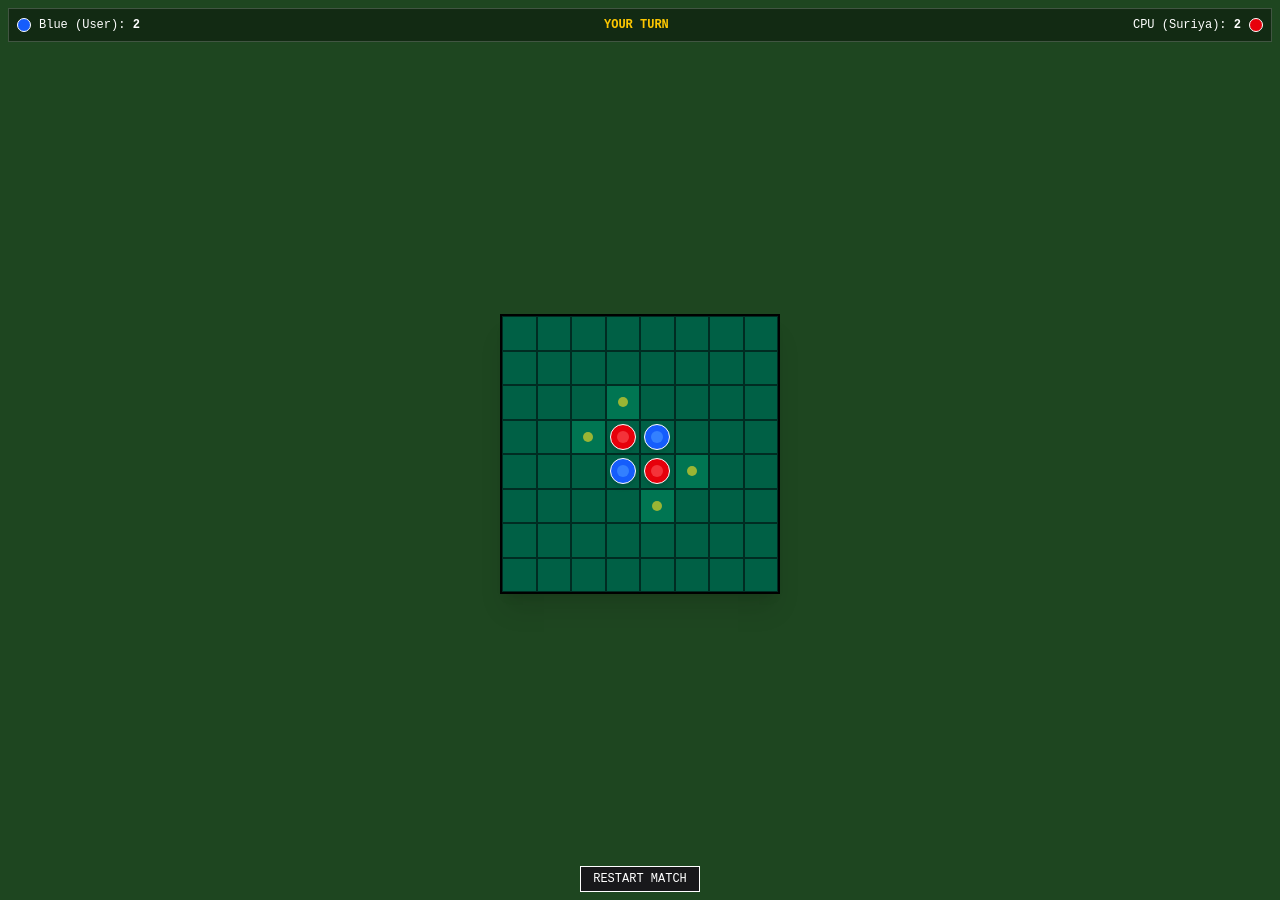
Test: Internet Reversi window › starts a clean game when restarted while the computer is still thinking
Step 1. Click the cell named "Row 3, column 4" → (623, 402), box top-left (606, 385), bottom-right (640, 420)
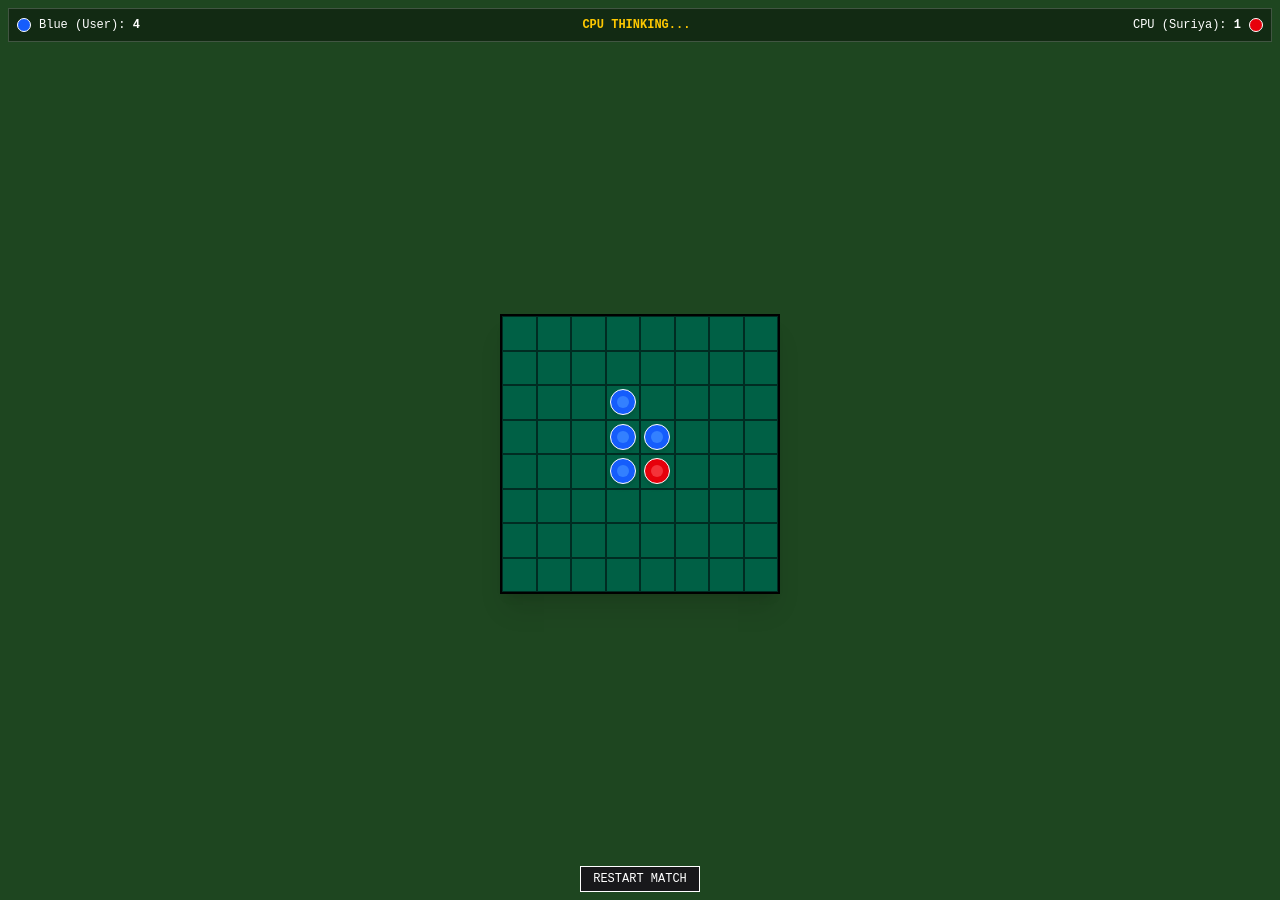
Now the text "CPU THINKING..." is shown, box top-left (582, 18), bottom-right (690, 32)
Step 2. Click the button "RESTART MATCH" → (640, 879), box top-left (580, 866), bottom-right (700, 892)
Wait 5000 ms
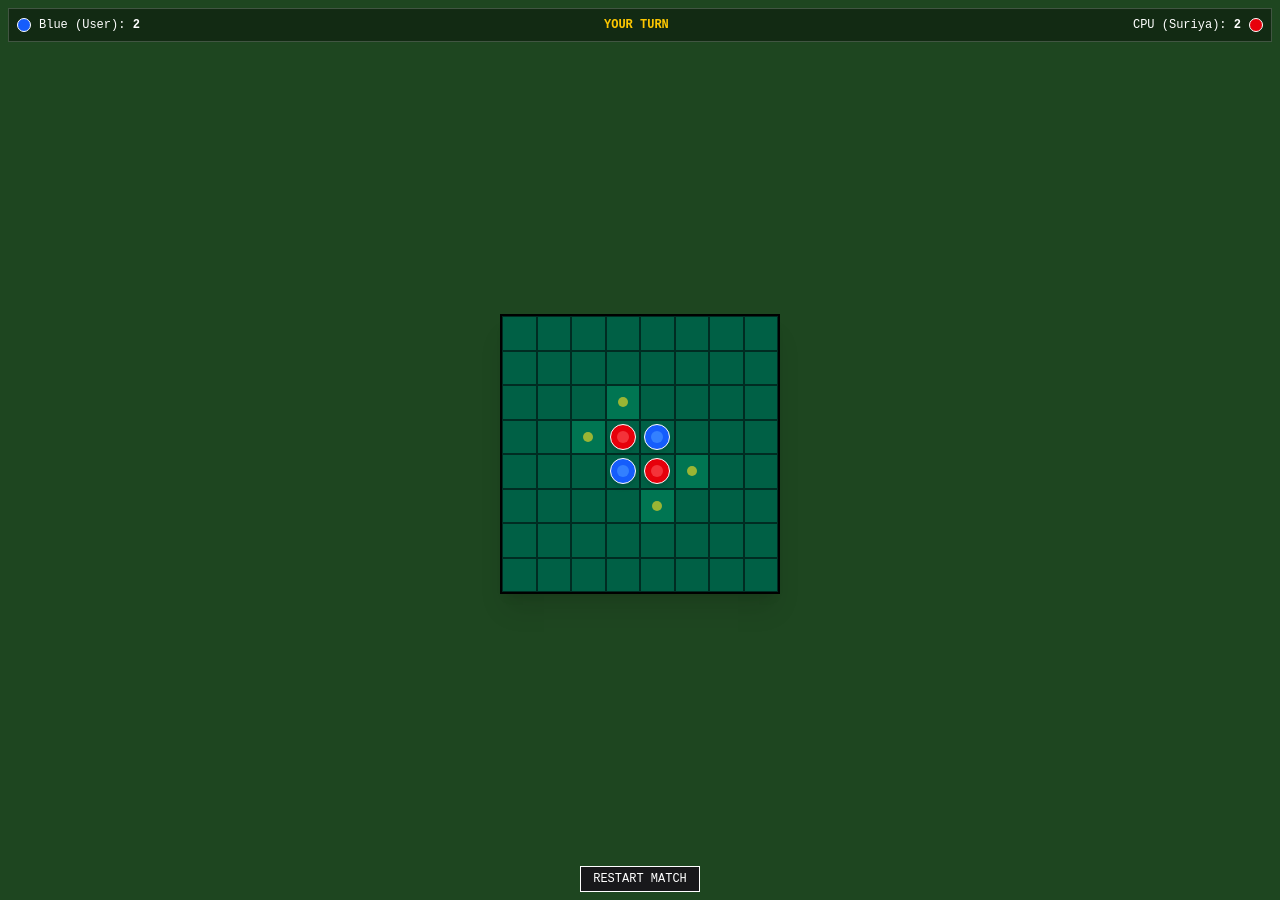
Now the text "YOUR TURN" is shown, box top-left (604, 18), bottom-right (669, 32)
Now the text "Blue (User): 2" is shown, box top-left (39, 17), bottom-right (140, 33)
Now the text "CPU (Suriya): 2" is shown, box top-left (1133, 17), bottom-right (1241, 33)
